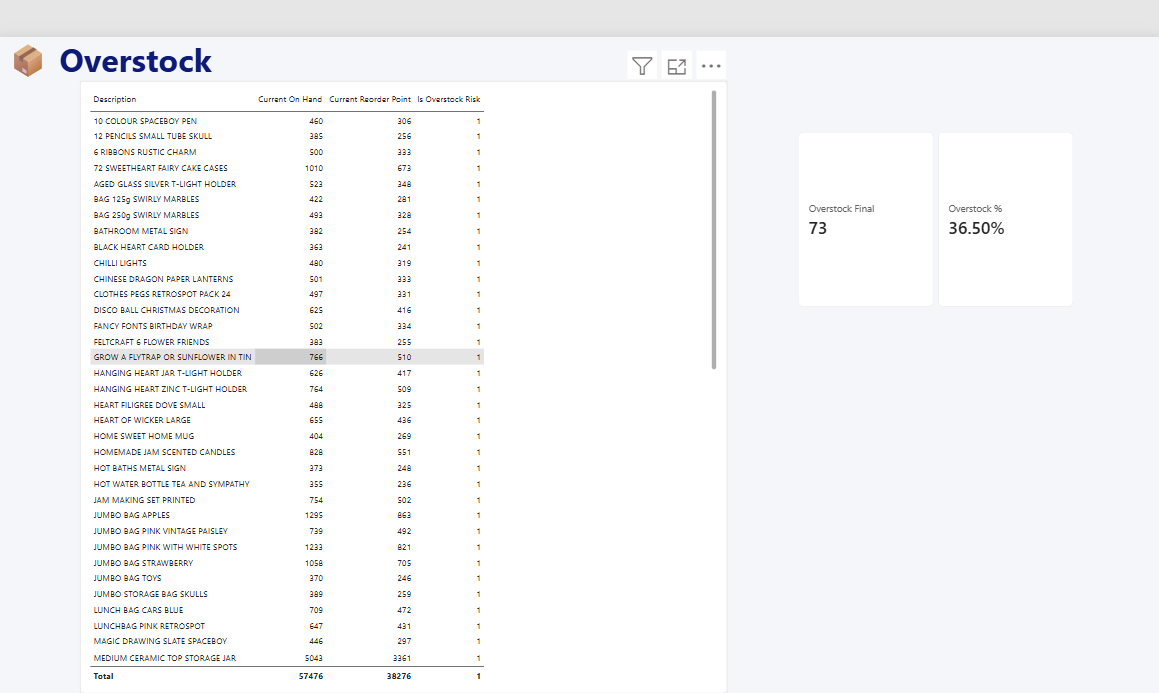

The dashboard page shown, as its layout file describes it:
{"tool":"powerbi","page":{"name":"Overstock","canvas":[1920,1080],"ordinal":6},"visuals":[{"type":"tableEx","fields":{"Values":["Sku_master.Description","_Measures.Current On Hand","_Measures.Current Reorder Point","_Measures.Is Overstock Risk"]},"box":[137.9,72,1066.2,1008.6],"z":0},{"type":"cardVisual","fields":{"Data":["_Measures.Overstock Final","_Measures.Overstock %"]},"box":[1321.4,156.4,452.8,288.2],"z":1000},{"type":"textbox","box":[16.5,0,430.2,102.9],"z":2000}]}

Visuals, with their boxes on the page's 1920x1080 design canvas (x1, y1, x2, y2). These are canvas units, not pixel positions in the 1159x693 screenshot, which may show the page scaled, cropped or inside an application window:
tableEx - Sku_master.Description x _Measures.Current On Hand: pyautogui.locateOnScreen(138, 72, 1204, 1081)
cardVisual - _Measures.Overstock Final x _Measures.Overstock %: pyautogui.locateOnScreen(1321, 156, 1774, 445)
textbox: pyautogui.locateOnScreen(16, 0, 447, 103)
